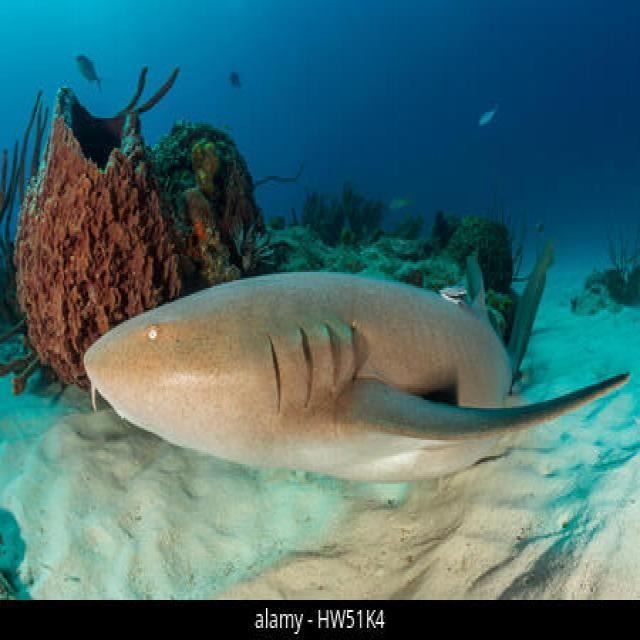Shark: (64, 238, 633, 482)
